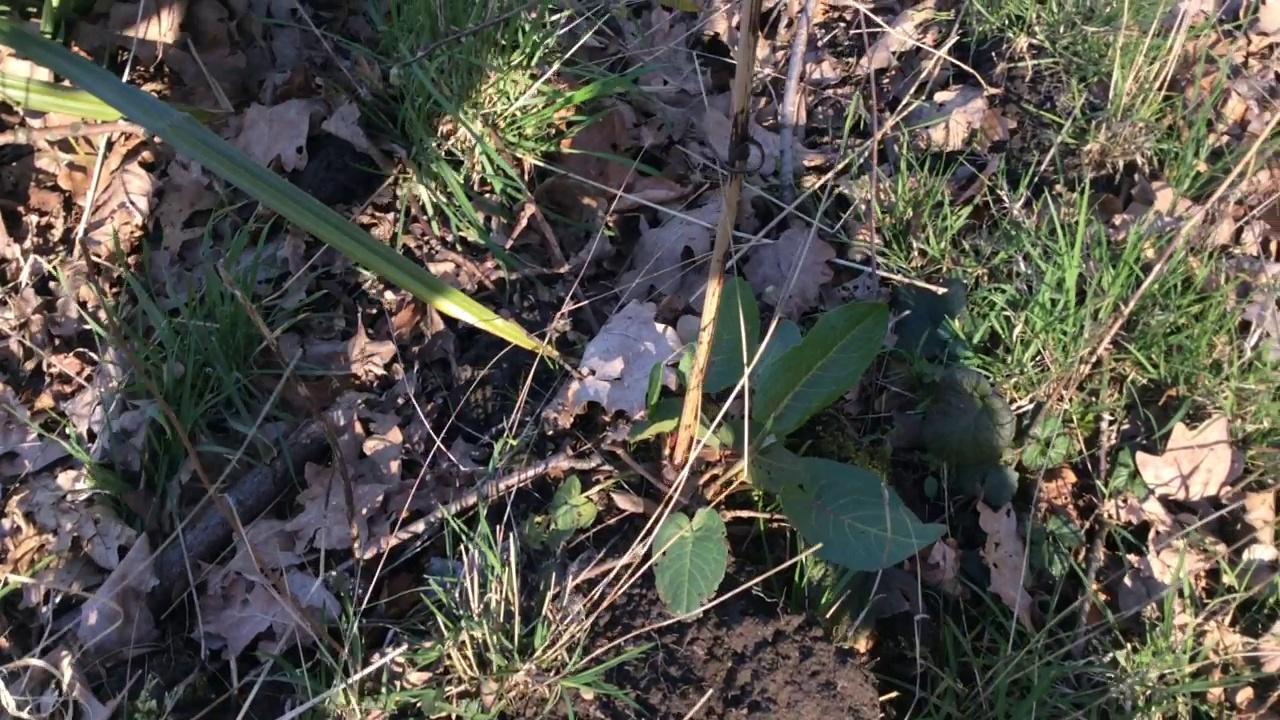rumex: (550, 276, 948, 622)
